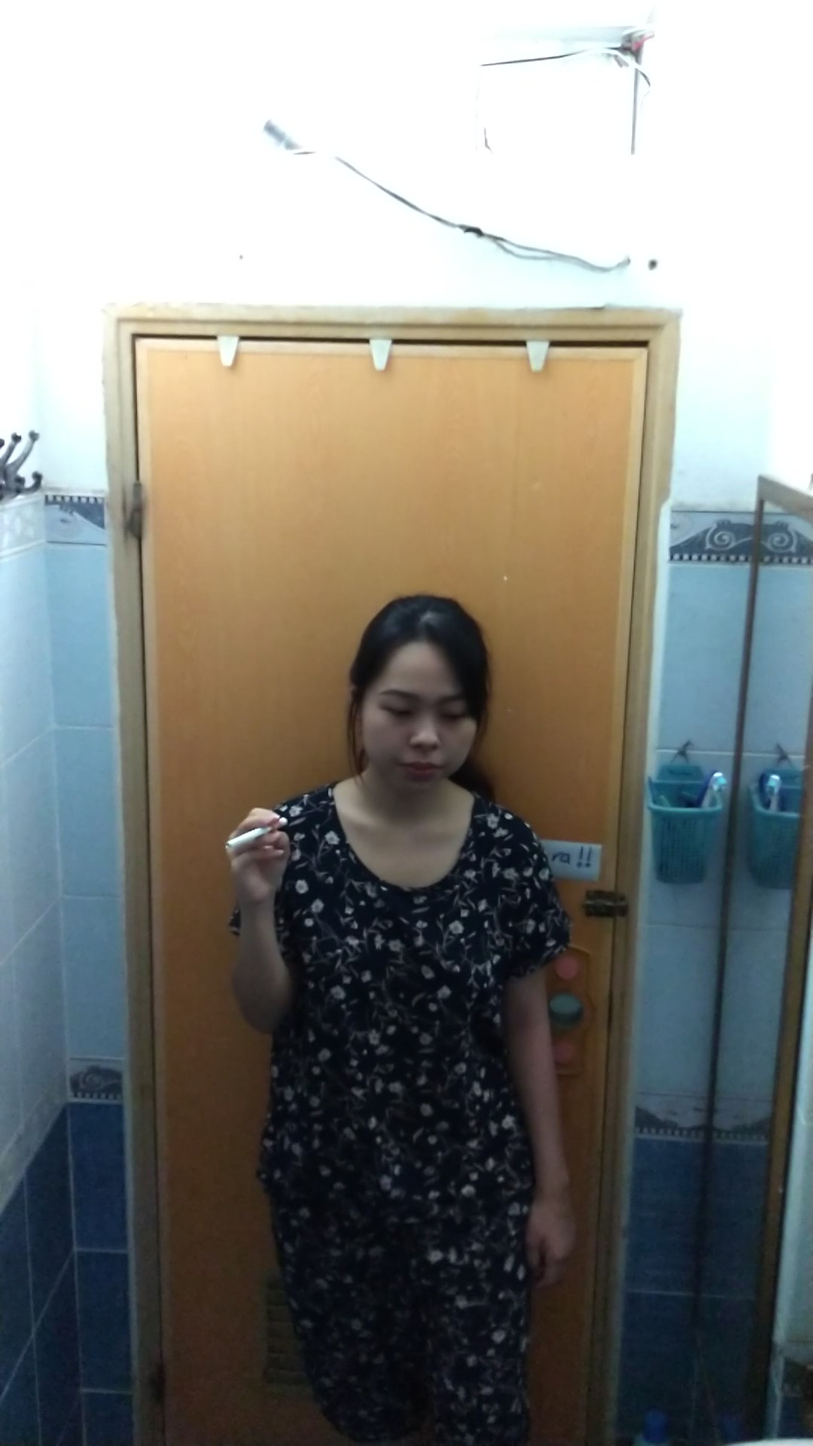cigarette: (222, 827, 264, 853)
person: (219, 581, 595, 1446)
